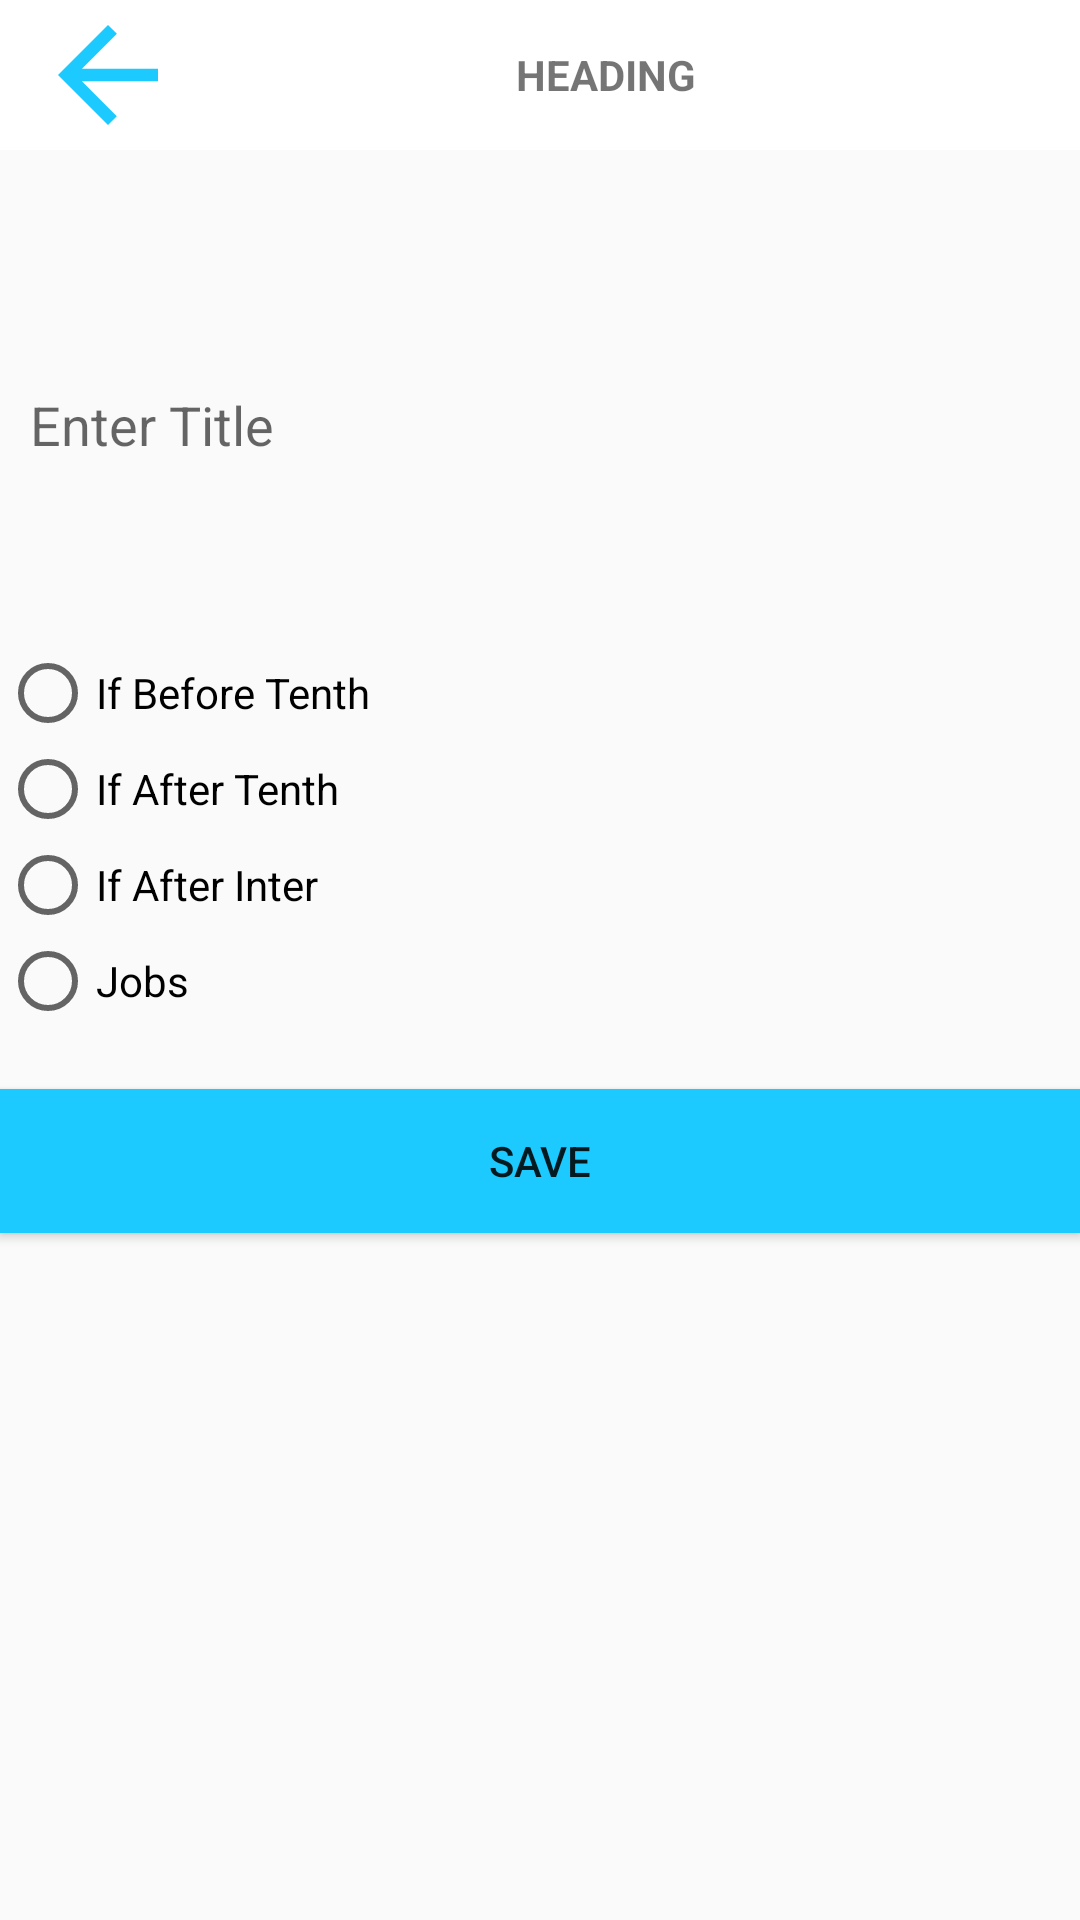

Point at icon controls on the screen. Image size 1080*1920, points as (x=x, y=y).
backarrow: (x=108, y=75)
